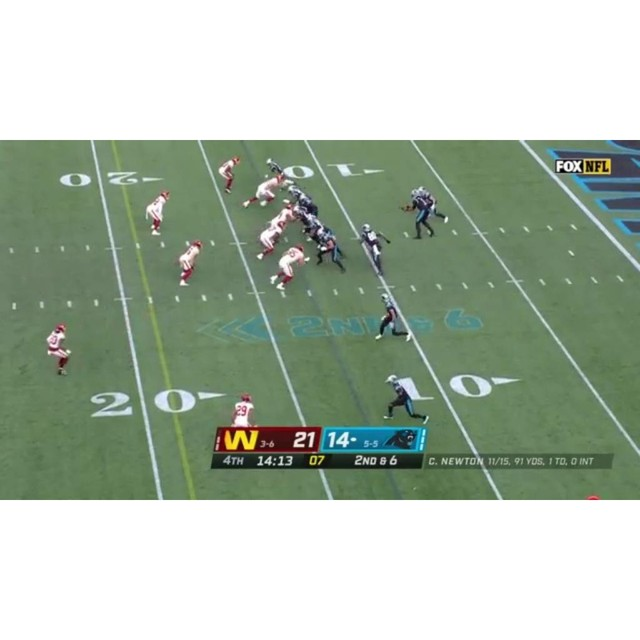american-football-player: (383, 375, 429, 422), (270, 244, 308, 293), (400, 189, 436, 240), (375, 293, 411, 343), (241, 173, 285, 209), (358, 223, 387, 276), (315, 228, 346, 274), (46, 323, 72, 377), (417, 186, 449, 225), (177, 239, 203, 286), (145, 190, 171, 236), (256, 222, 286, 261), (218, 155, 240, 194), (231, 392, 255, 427)
